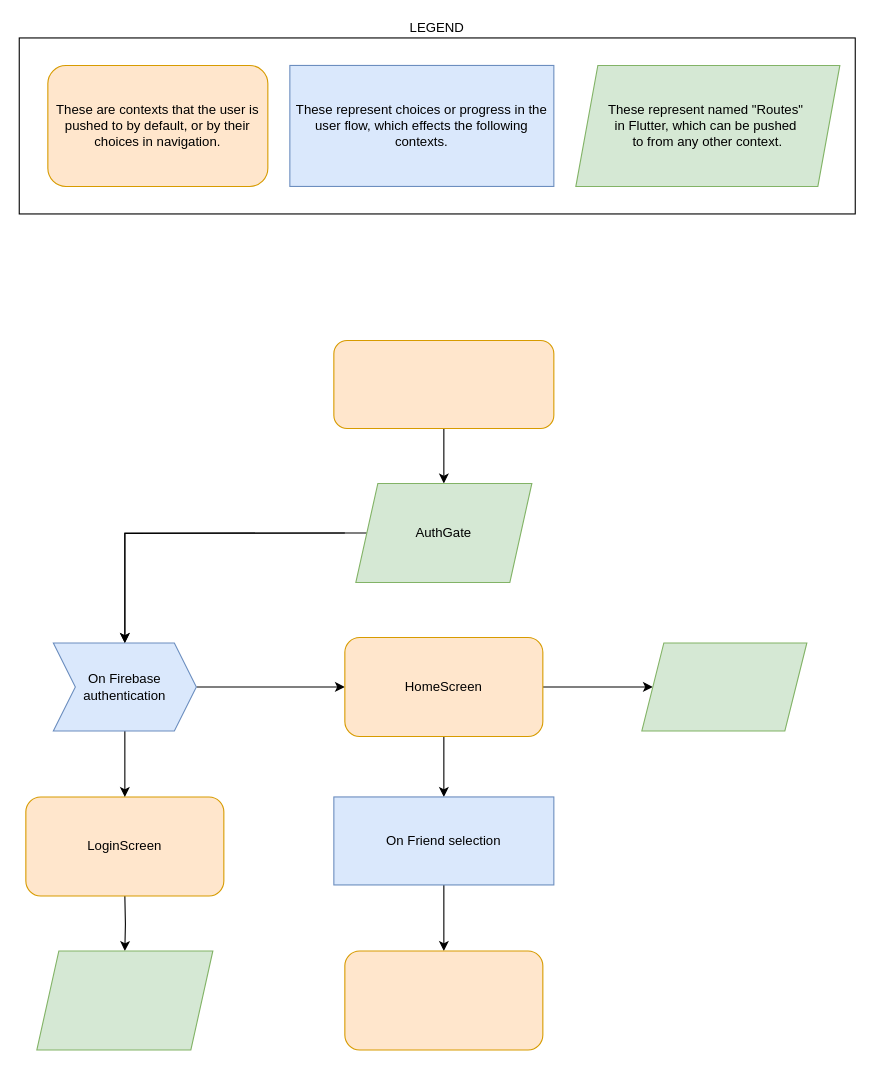
The diagram is 875 pixels wide and 1069 high, and some of its shapes have lost their labels. The shapes that lost their labels are listed below. From the top down, each one's centre as x and y in pixels, then its label:
[443,383]: MainApp
[724,686]: Invites
[124,1000]: Register
[443,1000]: ChatScreen
